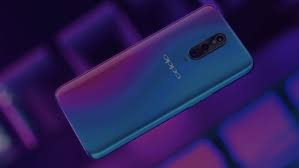oppo: (54, 1, 253, 159)
